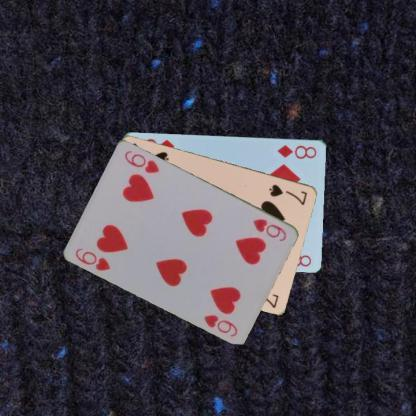6h: (73, 245, 112, 272), (251, 216, 288, 243)
7s: (266, 182, 309, 206)
8d: (275, 142, 318, 160)
